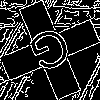G: (25, 25, 79, 82)
